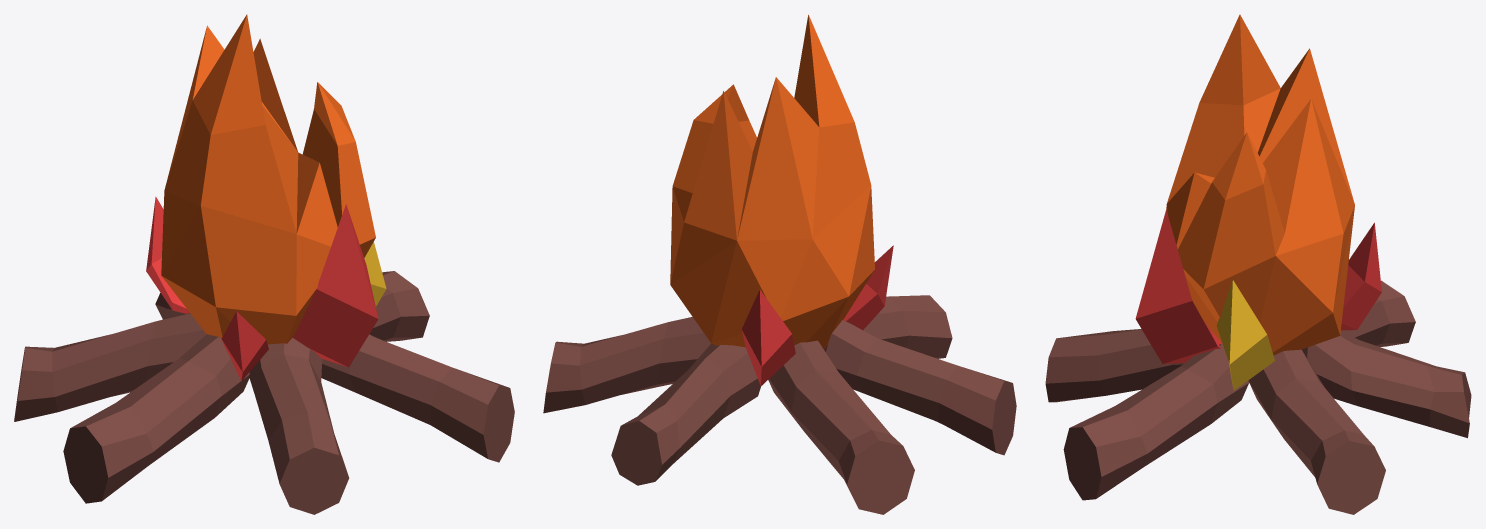
File: CampFire.fbx
The picture shows the model from 3 angles, left to right: view 1: azimuth 30°, elevation 25°; view 2: azimuth 150°, elevation 25°; view 3: azimuth 270°, elevation 25°; orthographic projection. The views are drawn at different scales.
Visible parts, largest first — view 1: campfire; view 2: campfire; view 3: campfire.
Part boxes in pixels (x1,y1,x2,y2): campfire: (14, 14, 514, 514); campfire: (543, 14, 1016, 514); campfire: (1045, 14, 1471, 514).
Size of the model in its own units: 466 by 465 by 440.
